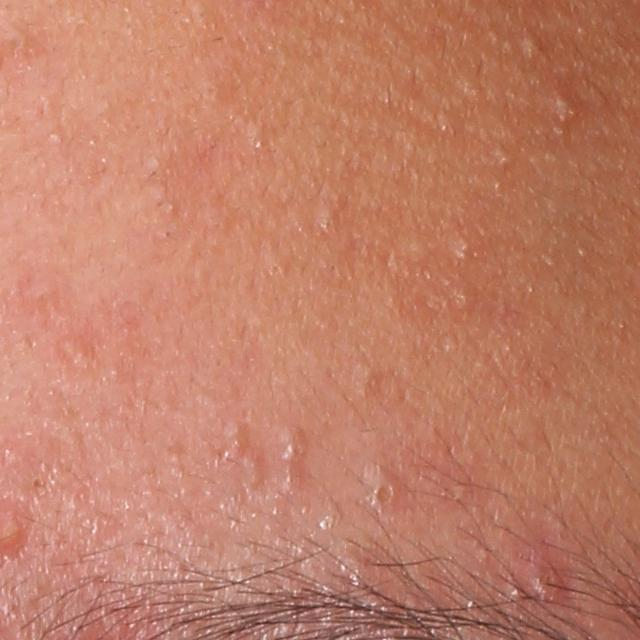comedo: (446, 282, 477, 321), (368, 480, 402, 512), (311, 205, 341, 241), (275, 437, 309, 464), (222, 418, 248, 446), (547, 93, 571, 119), (519, 32, 542, 59), (491, 144, 512, 169), (45, 130, 65, 146), (31, 473, 46, 488)
